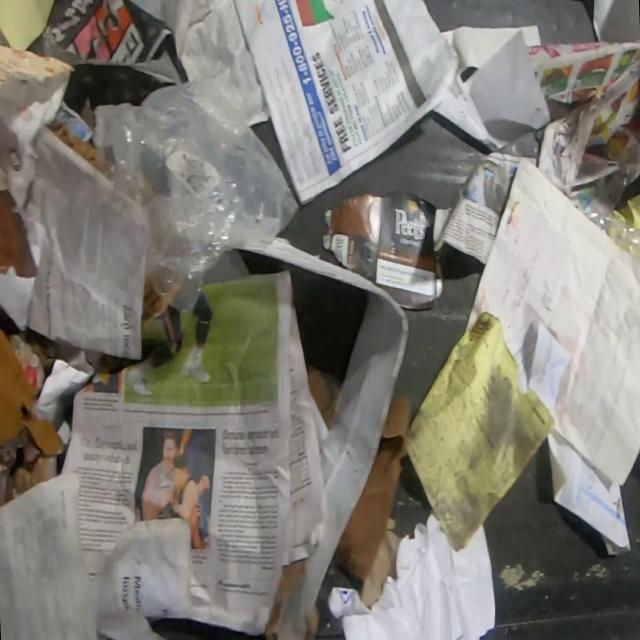cardboard: (240, 236, 410, 639), (25, 0, 192, 128), (332, 393, 413, 583), (320, 189, 444, 313), (0, 321, 65, 459), (359, 514, 404, 608), (0, 188, 39, 281), (264, 556, 304, 640), (44, 113, 92, 166), (306, 362, 341, 429), (141, 275, 167, 321), (304, 602, 320, 640)
soft_plastic: (91, 71, 300, 317), (581, 160, 640, 266)
